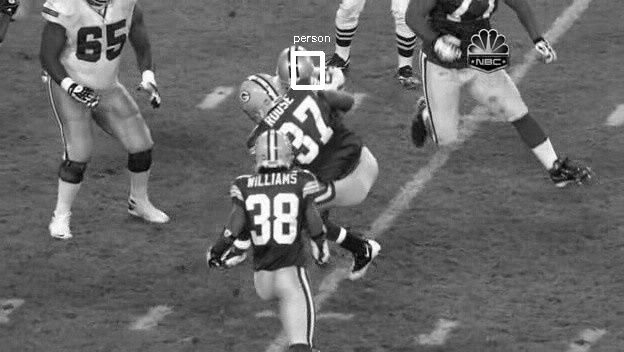person: (280, 46, 313, 88), (279, 46, 312, 88), (281, 46, 314, 88), (280, 45, 313, 87), (280, 47, 313, 89)
target_negative: (252, 177, 471, 318), (565, 73, 611, 178), (608, 307, 622, 345), (611, 66, 613, 308), (617, 173, 623, 229), (615, 183, 623, 214)
